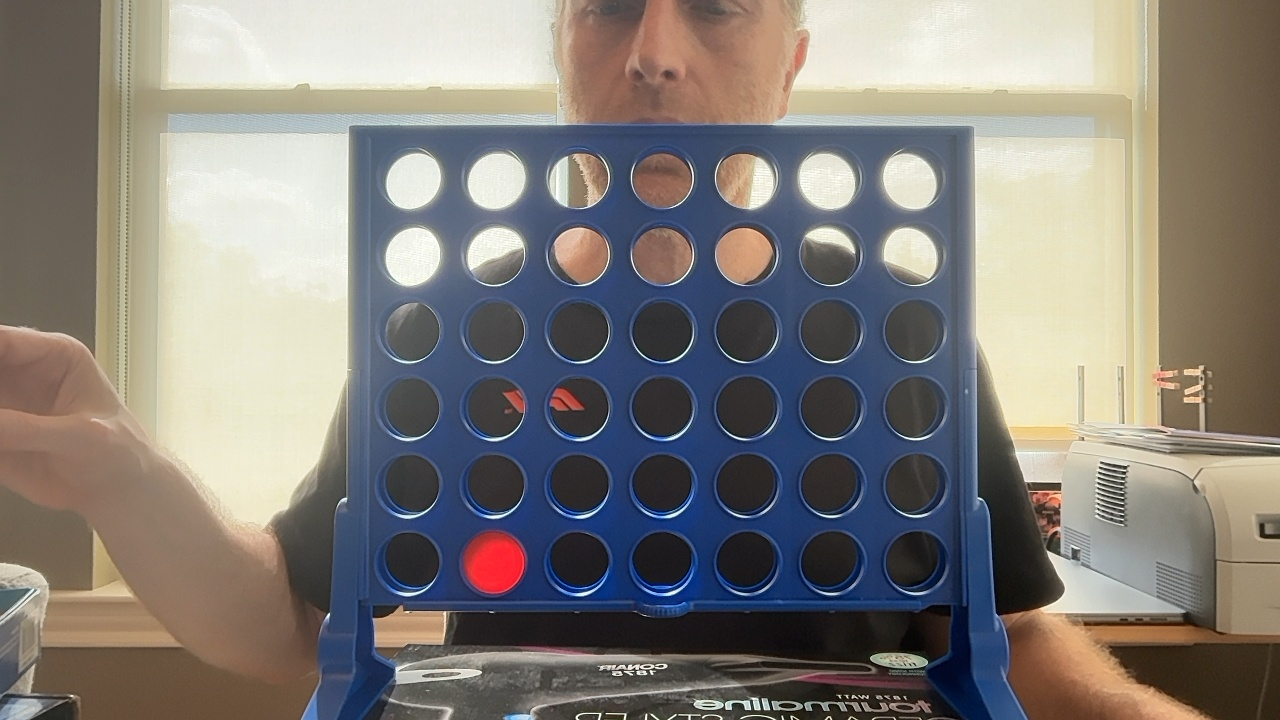red piece: (462, 531, 526, 594)
